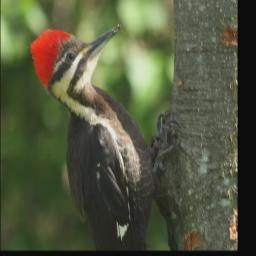Woodpecker: (31, 23, 177, 249)
